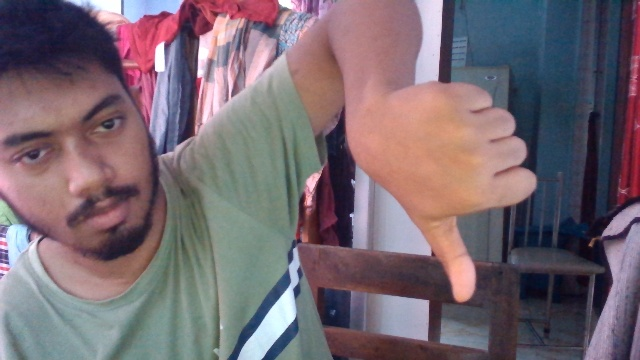no: (336, 76, 542, 302)
